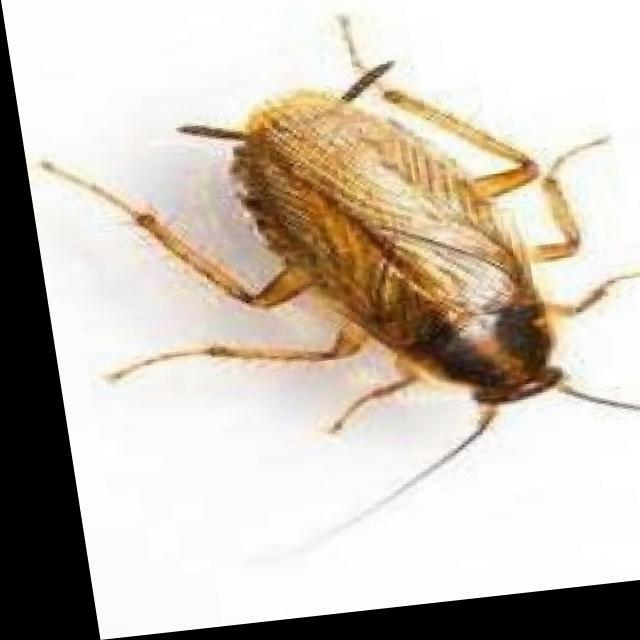cockroach: (77, 55, 594, 479)
